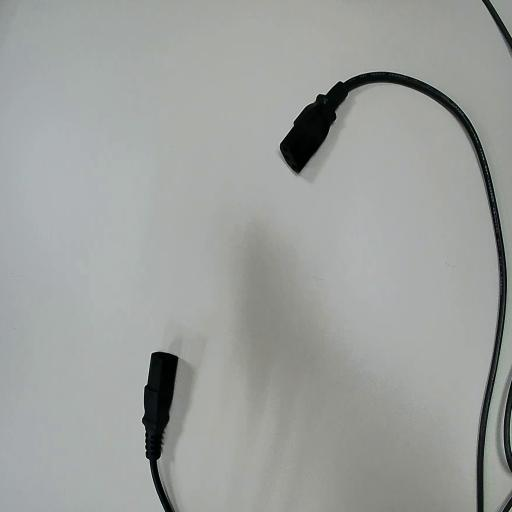wire: (281, 73, 505, 511), (143, 352, 177, 511)
